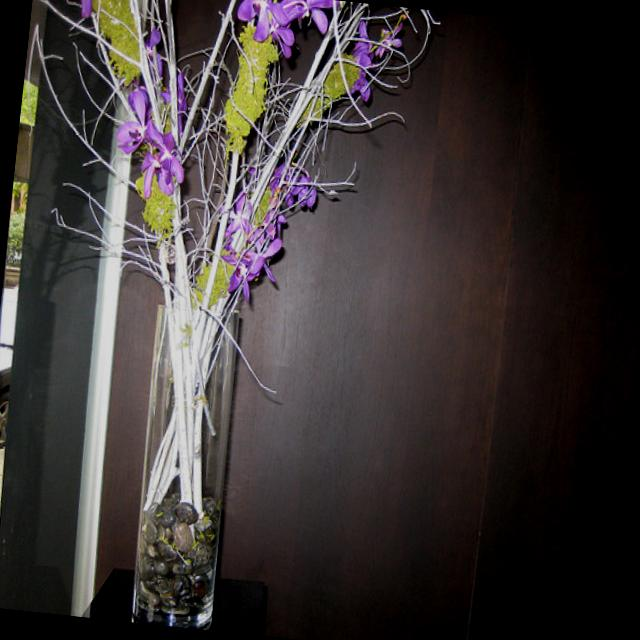Vehicle: (0, 281, 20, 462)
